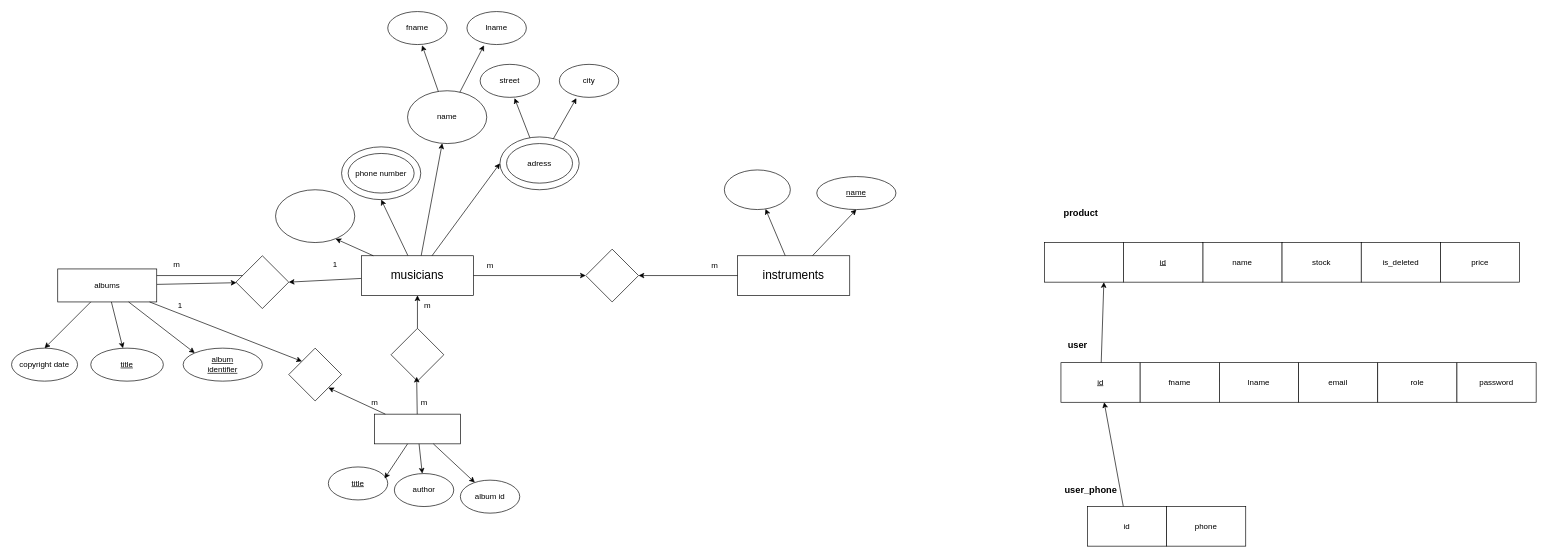
Image size: 1548x558. Some labels were removed from this diagram. Each missing label, with the centre of its shape:
appear: (315,374)
id number: (315,216)
musical key: (757,189)
play: (612,275)
preform: (417,354)
produce: (262,282)
songs: (417,428)
user_id: (1084,262)
